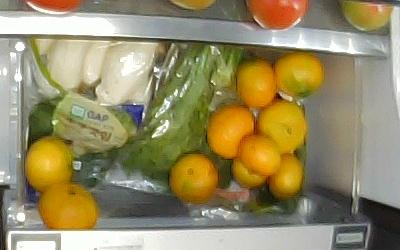tangerine: (256, 100, 306, 155), (38, 183, 97, 229), (24, 137, 71, 192), (208, 106, 254, 159), (274, 53, 323, 98), (171, 152, 217, 199), (236, 60, 276, 110), (240, 132, 282, 172), (266, 154, 302, 199), (233, 156, 271, 187)
